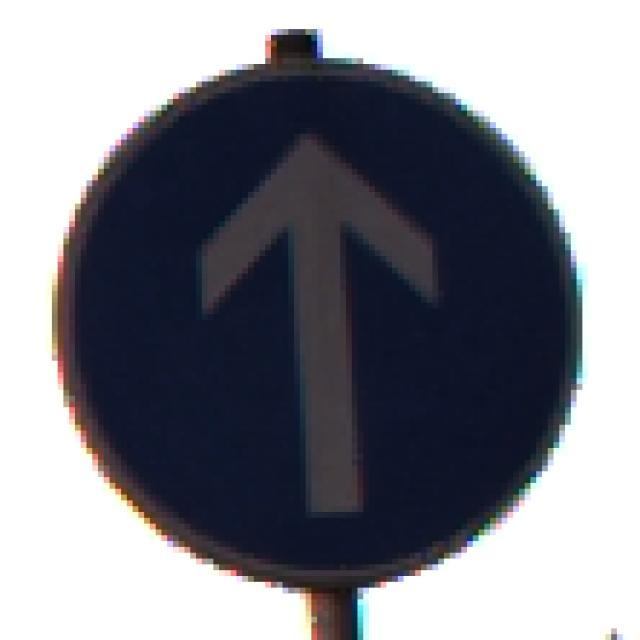compulsary ahead: (39, 38, 599, 598)
